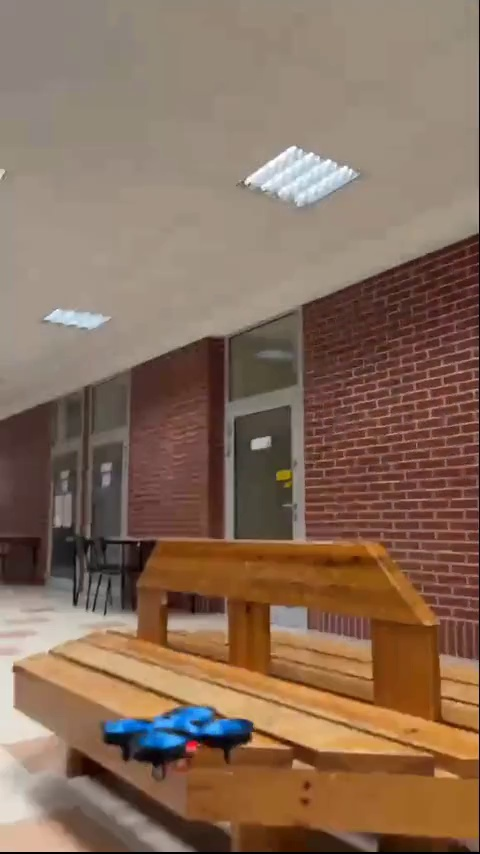drone: (101, 704, 260, 782)
